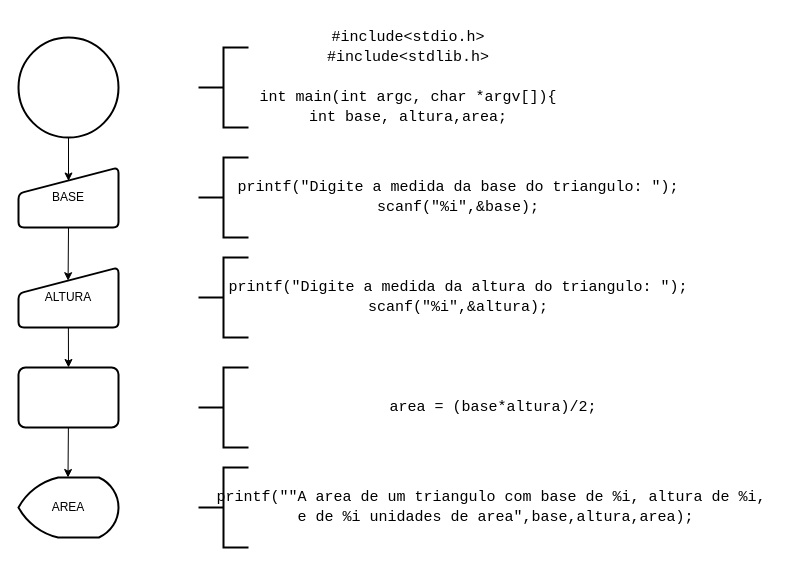
This 792x565 diagram has some shape labels left out. Each missing label, with the centre of its shape:
"AREA = ARESTA x ARESTA" goes at point (68, 397).
"INICIO" goes at point (68, 87).
